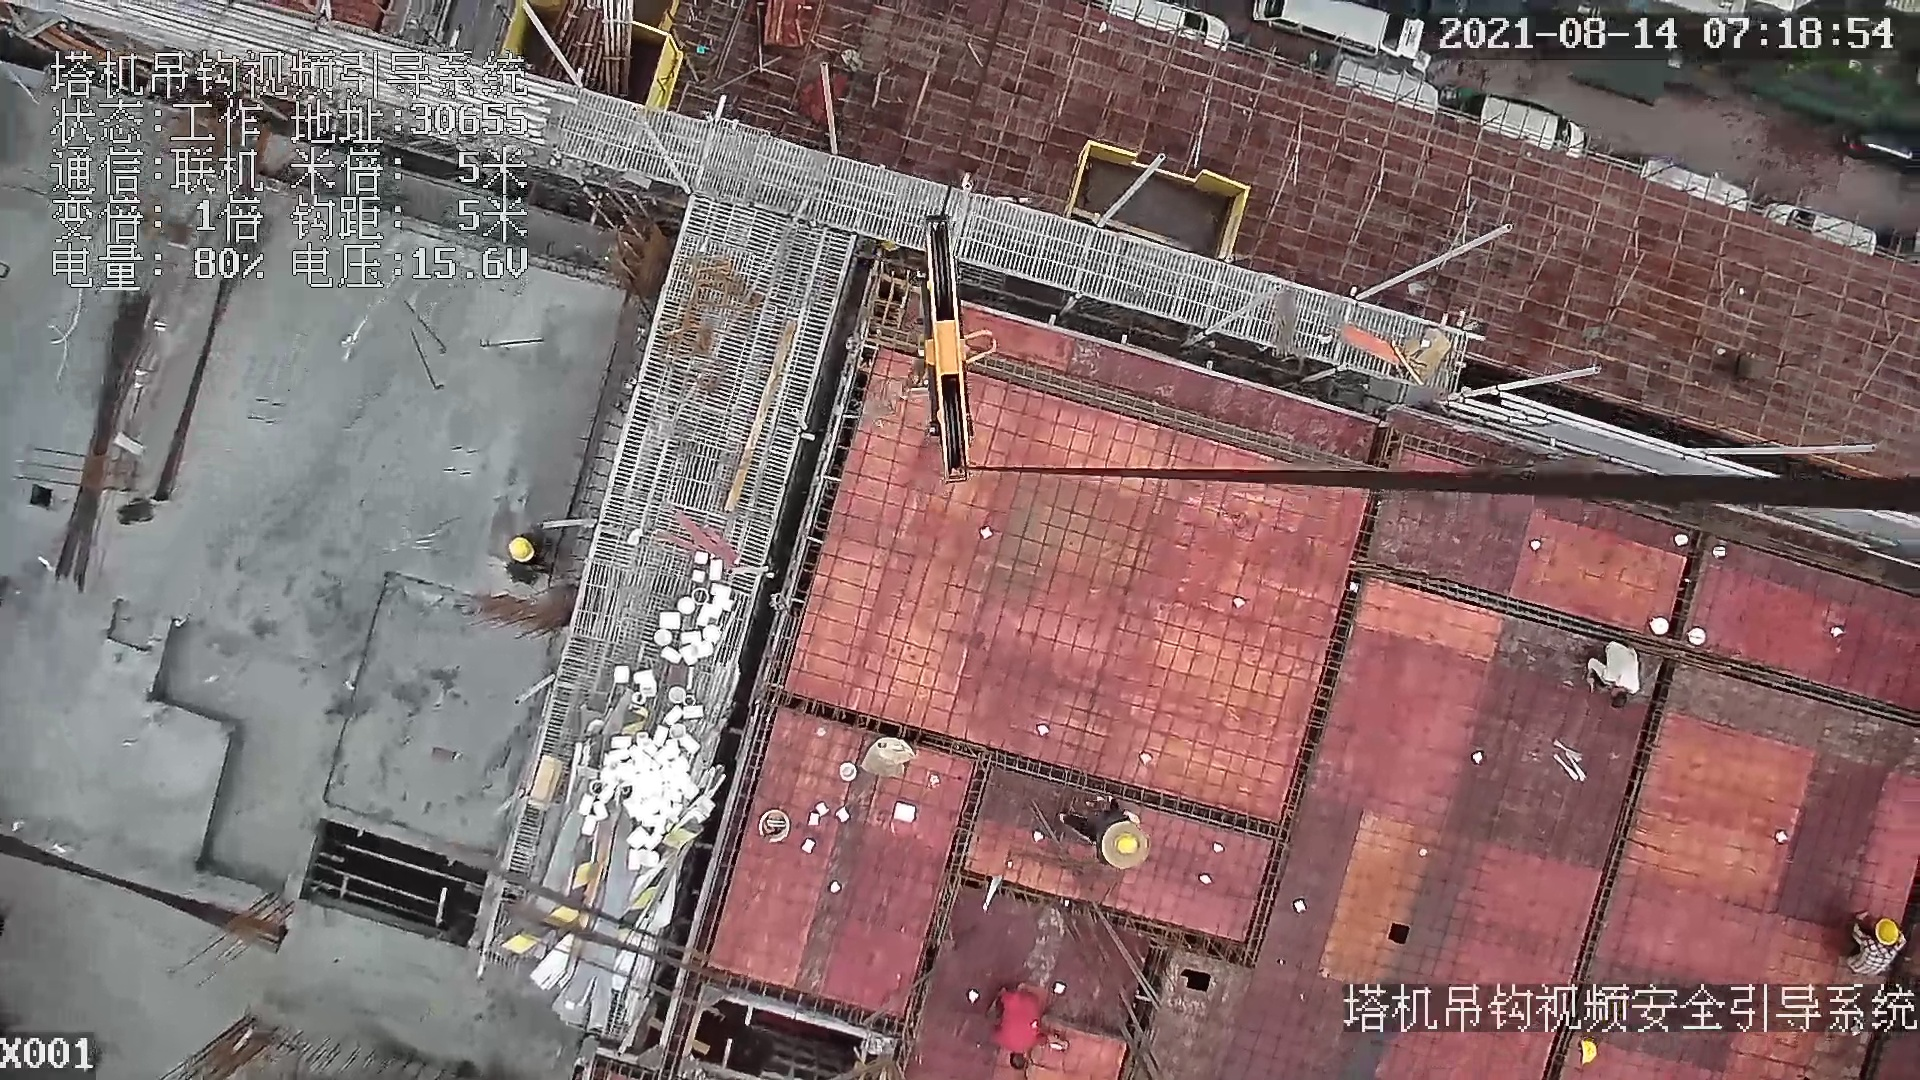helmet: (507, 531, 538, 563), (1873, 919, 1899, 948), (1117, 832, 1137, 858)
hook: (903, 208, 1015, 480)
person: (1056, 806, 1163, 872), (995, 987, 1073, 1076), (1848, 909, 1912, 982), (501, 531, 549, 580)
